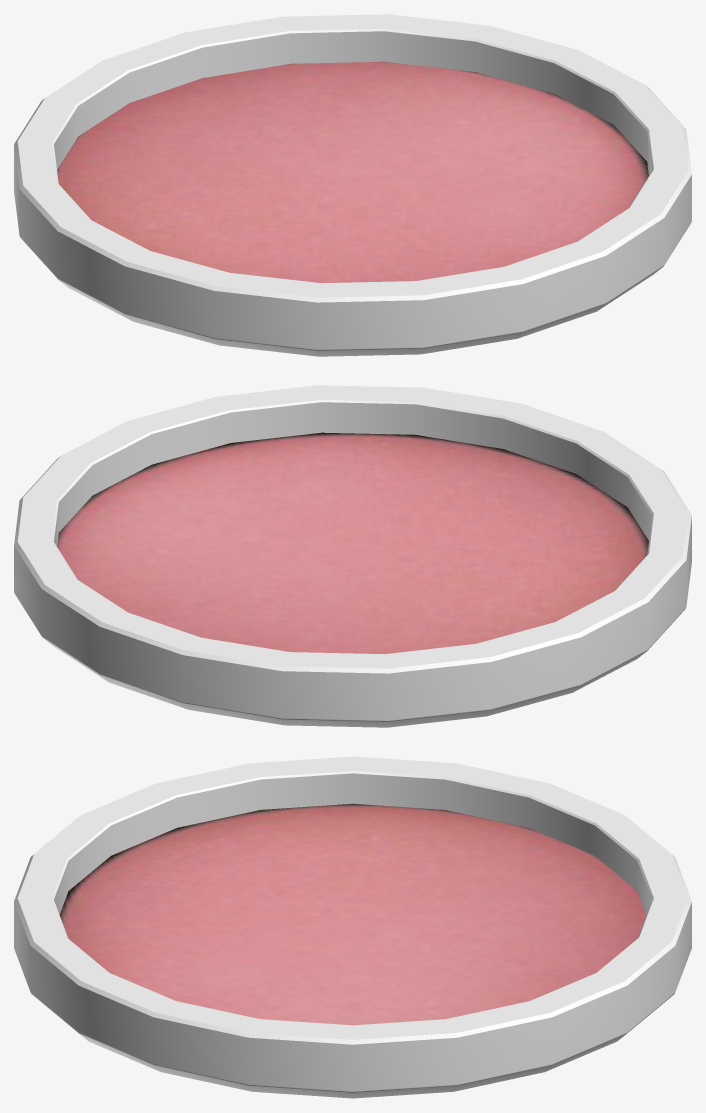
Rendered from Beauty_Product_001.fbx.
The picture shows the model from 3 angles, top to bottom: view 1: azimuth 30°, elevation 25°; view 2: azimuth 150°, elevation 25°; view 3: azimuth 270°, elevation 25°; orthographic projection.
Parts seen in each view (by area): view 1: Beauty_Product_01; view 2: Beauty_Product_01; view 3: Beauty_Product_01.
Boxes of the visible parts, x1=… form: Beauty_Product_01: x1=14, y1=14, x2=691, y2=356; Beauty_Product_01: x1=14, y1=385, x2=691, y2=727; Beauty_Product_01: x1=14, y1=756, x2=691, y2=1098.
Size of the model in its own units: 92.85 by 9.56 by 92.85.
